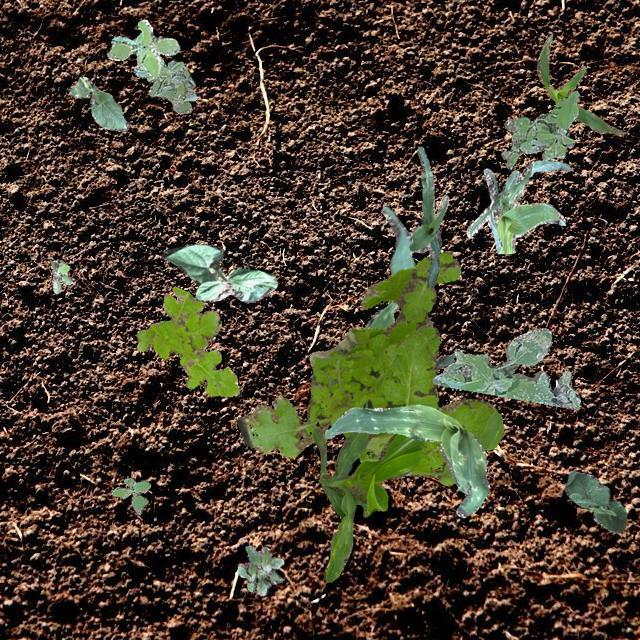crop: (313, 398, 423, 580), (324, 404, 488, 516), (364, 205, 454, 368), (465, 160, 571, 252), (536, 34, 626, 134), (162, 244, 276, 302), (408, 146, 448, 288), (564, 470, 624, 530), (68, 76, 128, 130)
weed: (235, 250, 502, 484), (432, 326, 580, 408), (136, 284, 238, 396), (500, 90, 578, 168), (106, 18, 178, 78), (132, 58, 198, 114), (236, 544, 282, 594), (110, 478, 150, 514), (49, 260, 72, 292)
